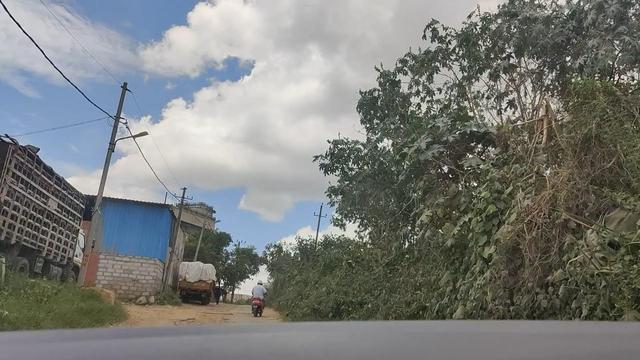RoadDamages: (171, 307, 250, 327)
